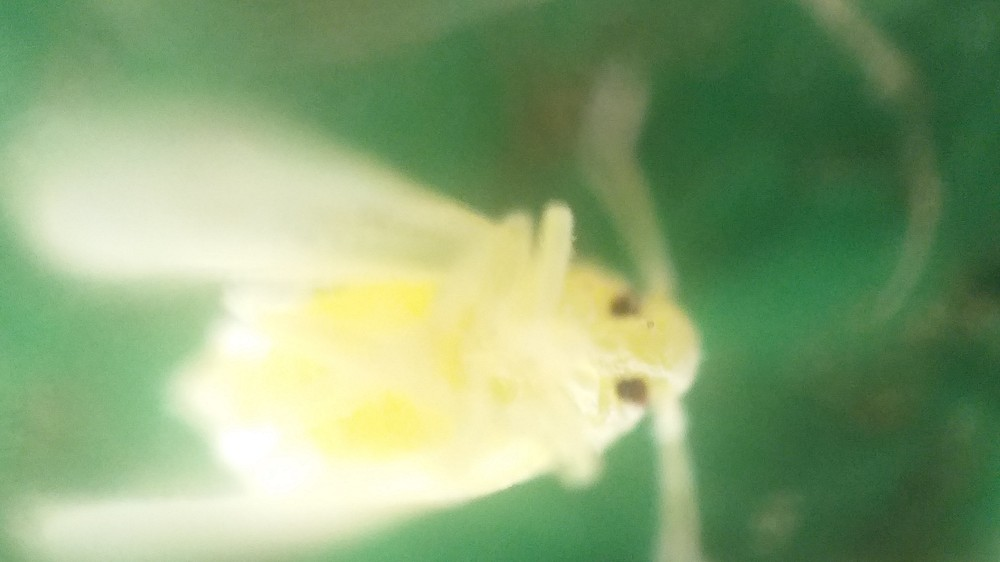Mosca Blanca: (18, 25, 746, 562)
